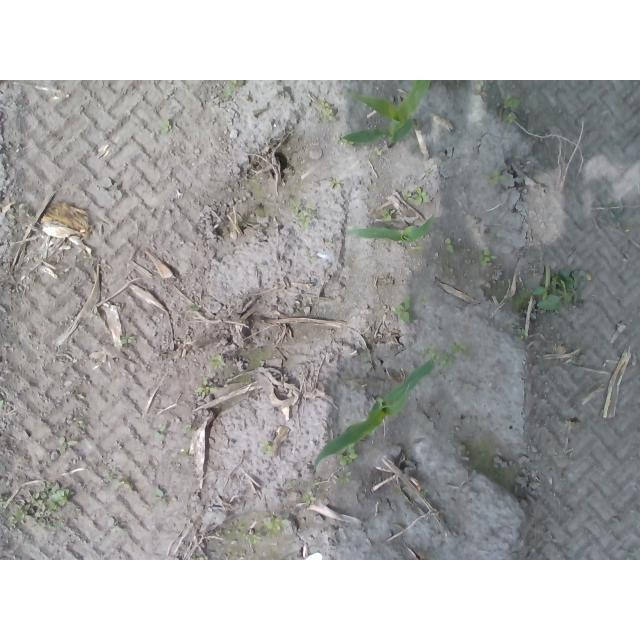Maize: (313, 360, 438, 469), (339, 80, 433, 148), (342, 217, 438, 244)
Weeds: (11, 481, 70, 528), (517, 269, 577, 313), (423, 343, 466, 367), (291, 200, 314, 224), (392, 295, 412, 322), (263, 515, 290, 533), (504, 96, 521, 124), (195, 377, 217, 397), (57, 435, 77, 457), (338, 450, 360, 466), (485, 170, 504, 186), (479, 247, 495, 265), (318, 100, 332, 117), (210, 355, 225, 370), (414, 186, 427, 203), (304, 491, 317, 506), (445, 236, 456, 253), (249, 536, 263, 549), (516, 327, 528, 342), (162, 118, 172, 134), (121, 335, 136, 345), (263, 442, 274, 455), (223, 85, 234, 97), (153, 486, 164, 498), (383, 208, 393, 221), (152, 432, 161, 441)
